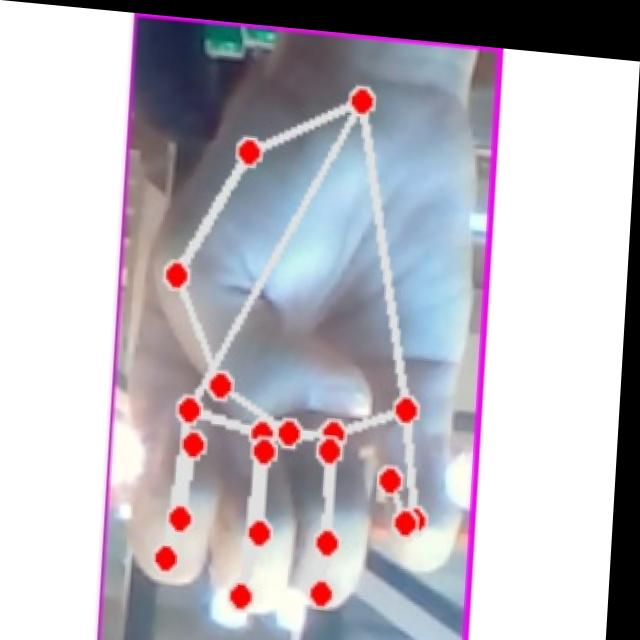E: (122, 51, 484, 632)
